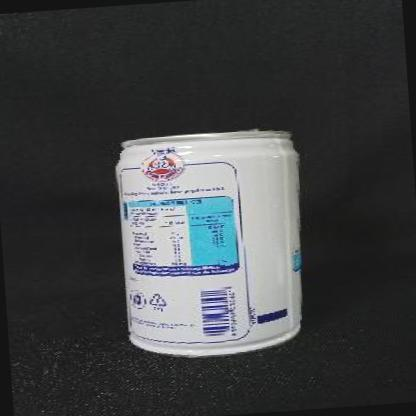alumunium_can: (113, 126, 312, 362)
